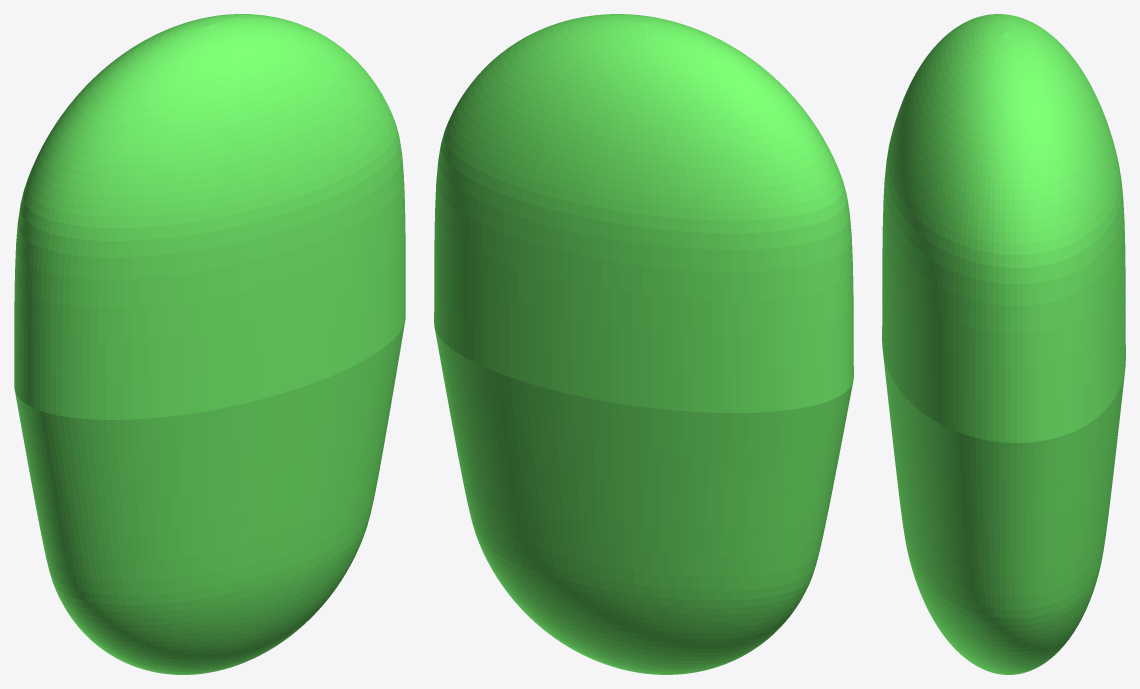
Rendered from snake_tail.fbx.
3 renders of one model, left to right at view 1: azimuth 30°, elevation 25°; view 2: azimuth 150°, elevation 25°; view 3: azimuth 270°, elevation 25°, orthographic. The views are drawn at different scales.
Parts seen in each view (by area): view 1: Сфера.004, Сфера.005; view 2: Сфера.004, Сфера.005; view 3: Сфера.004, Сфера.005.
Part boxes in pixels (box(x1,y1,x2,y2)): Сфера.004: box(14, 14, 405, 419); Сфера.005: box(15, 322, 404, 674); Сфера.004: box(434, 14, 853, 412); Сфера.005: box(435, 330, 852, 674); Сфера.004: box(882, 14, 1125, 442); Сфера.005: box(883, 353, 1124, 674).
Size of the model in its own units: 62.7 by 99.83 by 35.28.
